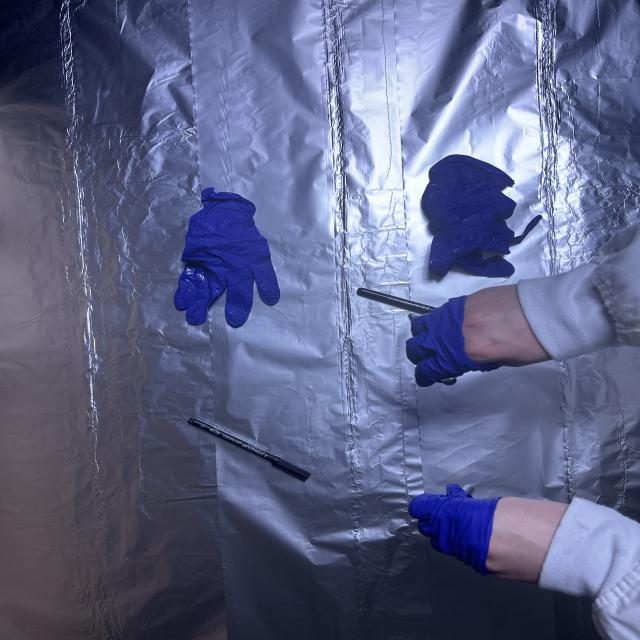glove_partial: (412, 482, 570, 588), (408, 282, 554, 382)
